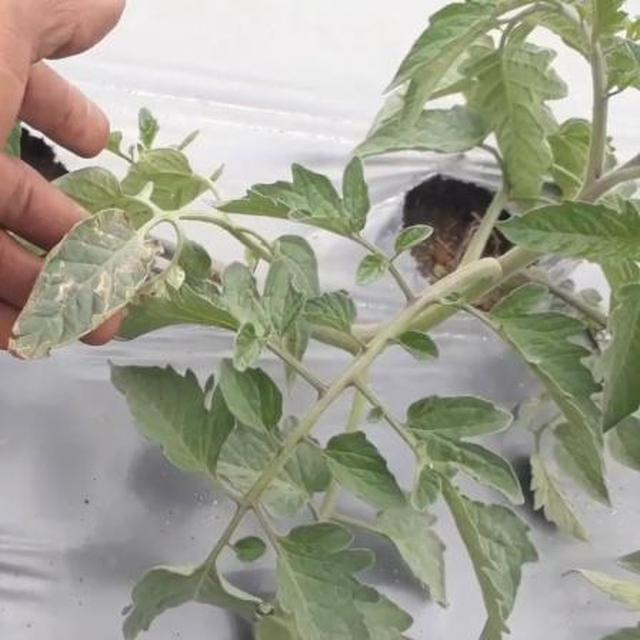Leaf Miner: (93, 113, 526, 640)
